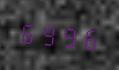nine: (58, 19, 77, 51), (38, 18, 57, 49)
six: (18, 16, 37, 48), (78, 21, 97, 53)
